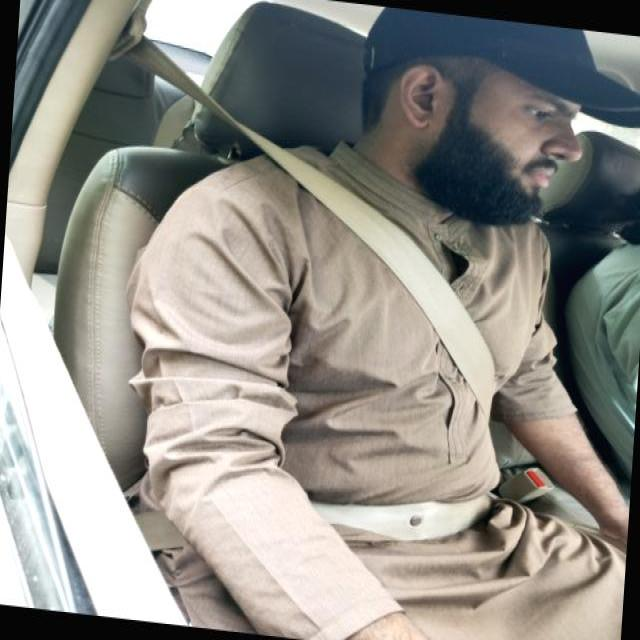seatbelt: (117, 1, 584, 578)
